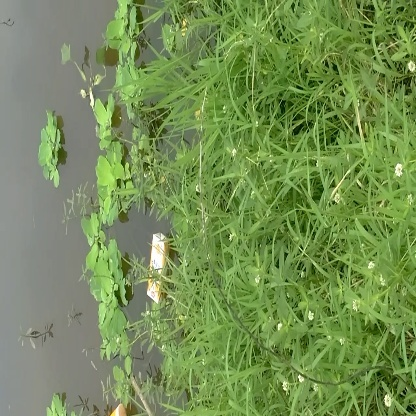milk-box: (140, 232, 180, 301)
